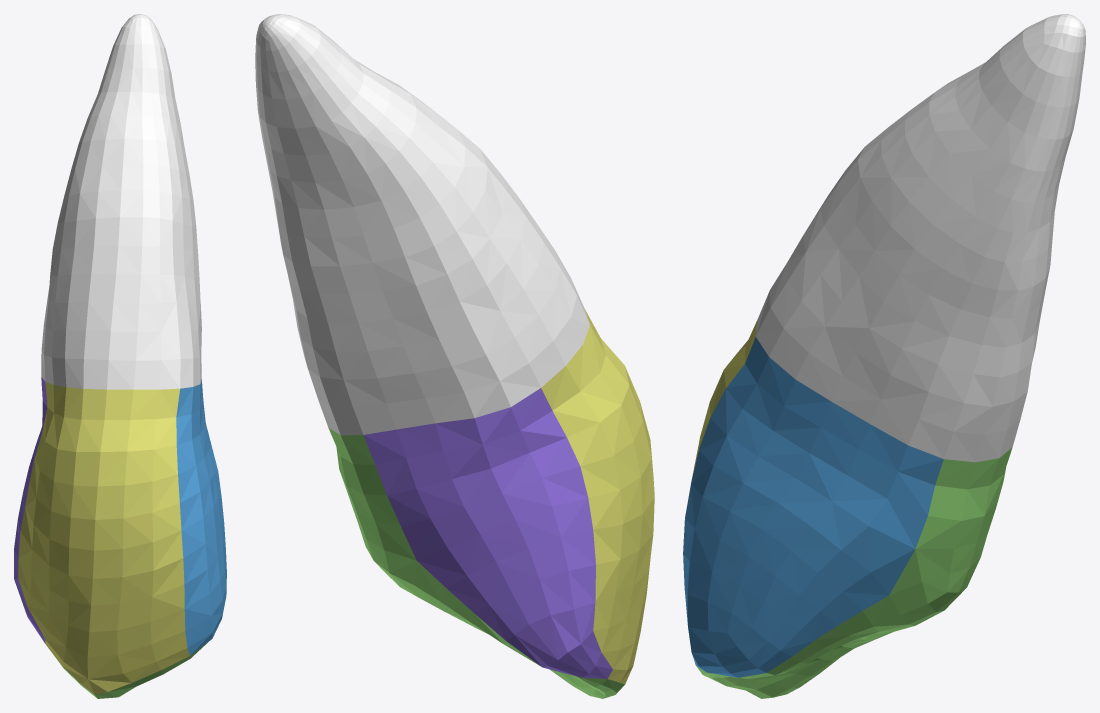
The model's file is tooth_13_annotated.glb.
3 views of the same model, side by side, from view 1: azimuth 30°, elevation 25°; view 2: azimuth 150°, elevation 25°; view 3: azimuth 270°, elevation 25° (orthographic). The views are drawn at different scales.
Parts seen in each view (by area): view 1: FDI_13; view 2: FDI_13; view 3: FDI_13.
Part boxes in pixels (x1,y1,x2,y2): FDI_13: (14,14,226,698); FDI_13: (255,14,654,698); FDI_13: (683,14,1085,698).
Bounding box in the file's own units: 0.00758 × 0.0197 × 0.00932.
